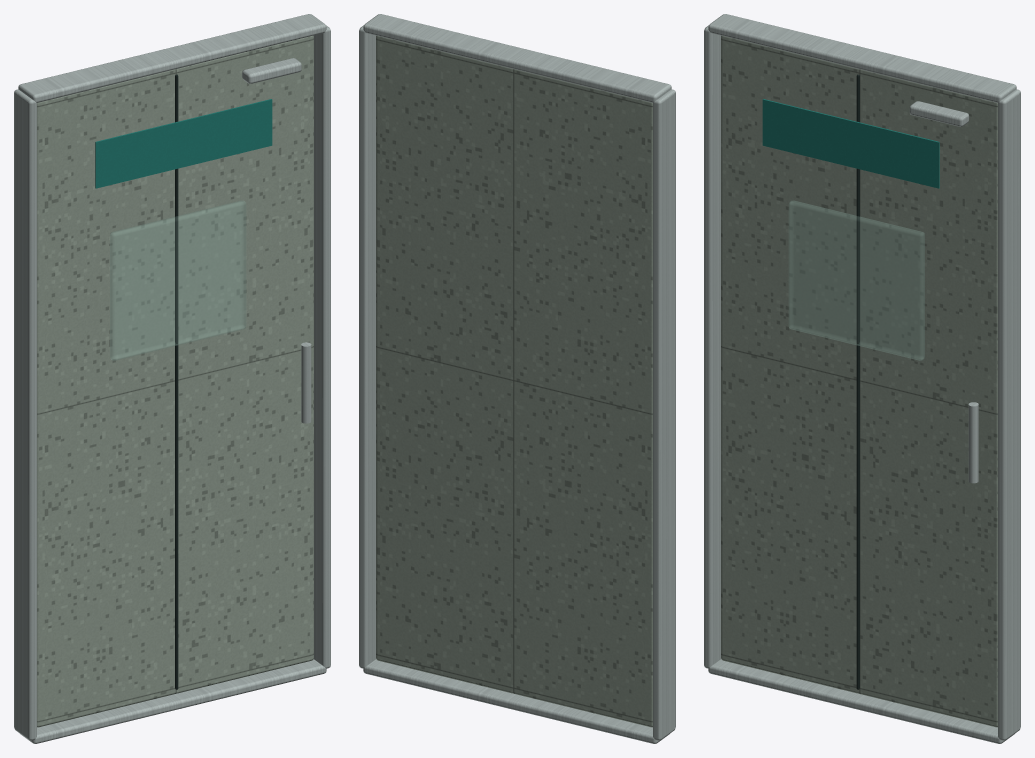
Rendered from detail-police-door-1.glb.
The picture shows the model from 3 angles, left to right: view 1: azimuth 30°, elevation 25°; view 2: azimuth 150°, elevation 25°; view 3: azimuth 330°, elevation 25°; orthographic projection.
Visible parts, largest first — view 1: door_panel, frame_side (×2), observation_window, frame_rail (×2), label_room_sign, door_seam, closer, pull_handle; view 2: door_panel, frame_side (×2), frame_rail (×2); view 3: door_panel, frame_side (×2), observation_window, frame_rail (×2), label_room_sign, door_seam, closer, pull_handle.
Part boxes in pixels (left/top/right/bottom): door_panel: left=37, top=35, right=313, bottom=727; frame_side (×2): left=14, top=25, right=330, bottom=740; observation_window: left=110, top=201, right=245, bottom=360; frame_rail (×2): left=18, top=14, right=326, bottom=743; label_room_sign: left=95, top=99, right=272, bottom=188; door_seam: left=175, top=74, right=178, bottom=689; closer: left=242, top=58, right=301, bottom=83; pull_handle: left=301, top=342, right=311, bottom=423; door_panel: left=376, top=35, right=652, bottom=727; frame_side (×2): left=359, top=25, right=675, bottom=740; frame_rail (×2): left=363, top=14, right=671, bottom=743; door_panel: left=721, top=35, right=997, bottom=727; frame_side (×2): left=704, top=25, right=1020, bottom=740; observation_window: left=789, top=200, right=924, bottom=360; frame_rail (×2): left=708, top=14, right=1016, bottom=743; label_room_sign: left=762, top=99, right=939, bottom=188; door_seam: left=856, top=74, right=859, bottom=689; closer: left=909, top=101, right=969, bottom=126; pull_handle: left=968, top=402, right=978, bottom=483.
Bounding box in the file's own units: 1.24 × 2.54 × 0.17.
Materials: 5 (4 with a texture image).
